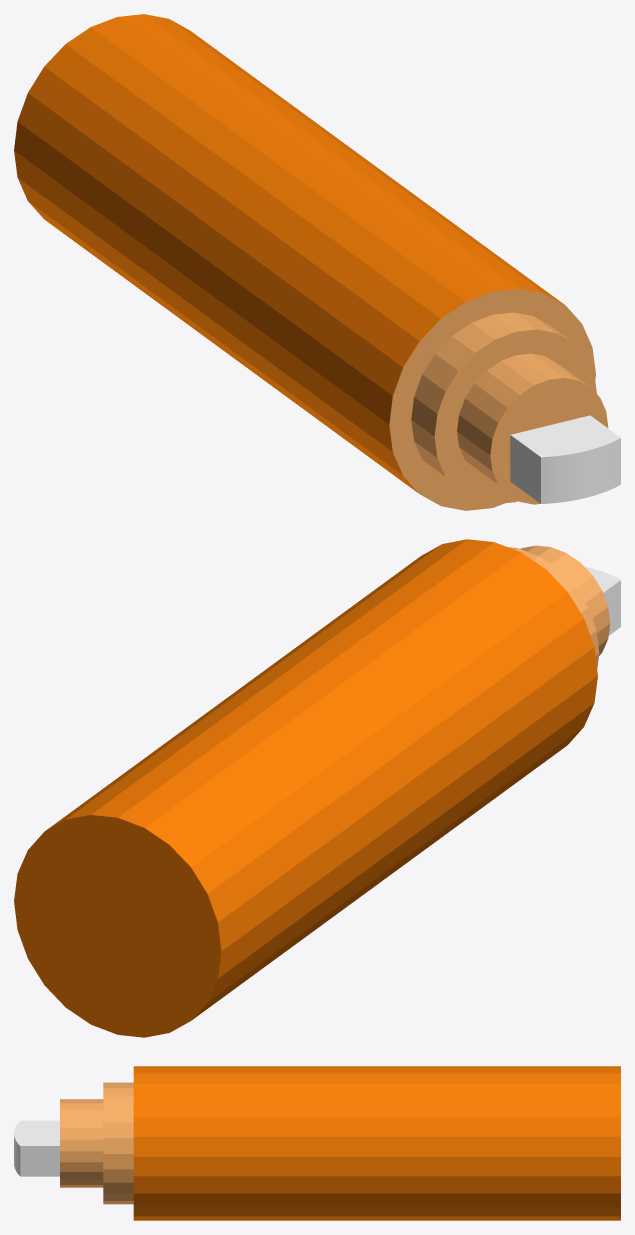
The picture shows the model from 3 angles, top to bottom: view 1: azimuth 30°, elevation 25°; view 2: azimuth 150°, elevation 25°; view 3: azimuth 270°, elevation 25°; orthographic projection. The views are drawn at different scales.
Parts seen in each view (by area): view 1: paint pen; view 2: paint pen; view 3: paint pen.
Part boxes in pixels (box(x1,y1,x2,y2)): paint pen: box(14, 14, 620, 510); paint pen: box(14, 539, 620, 1037); paint pen: box(14, 1066, 620, 1220).
Bounding box in the file's own units: 42.33 × 42.33 × 166.
